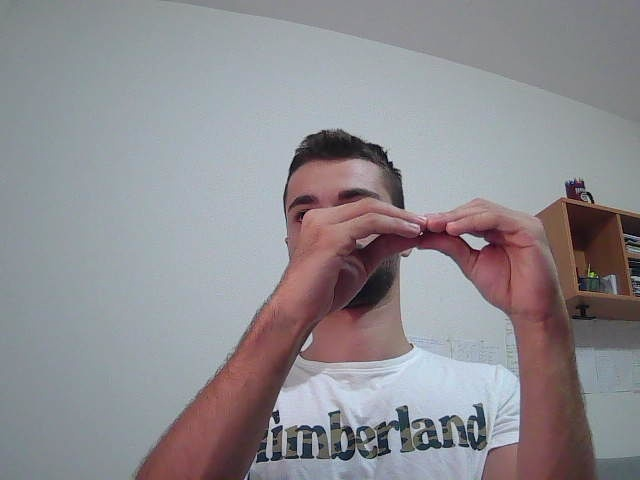b: (244, 190, 589, 435)
